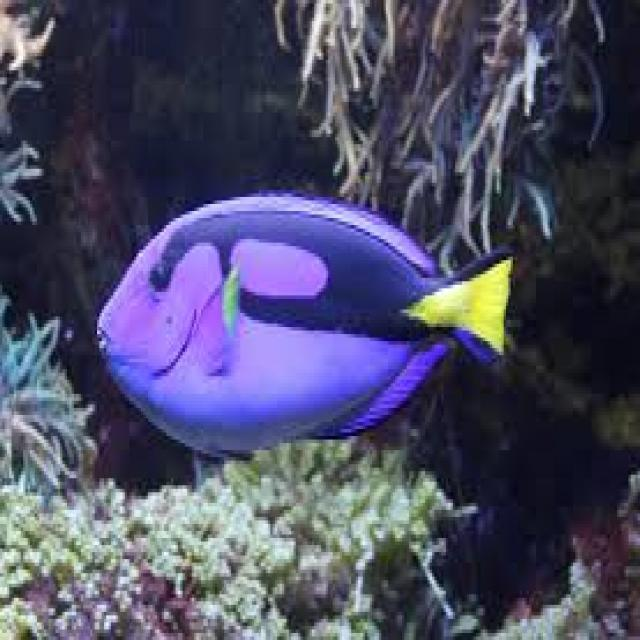TangFish: (93, 193, 514, 461)
